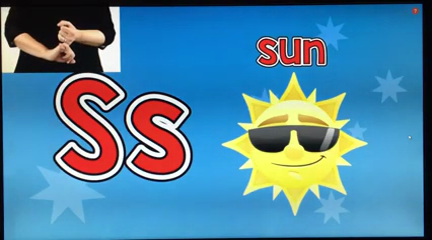S: (45, 9, 87, 69)
